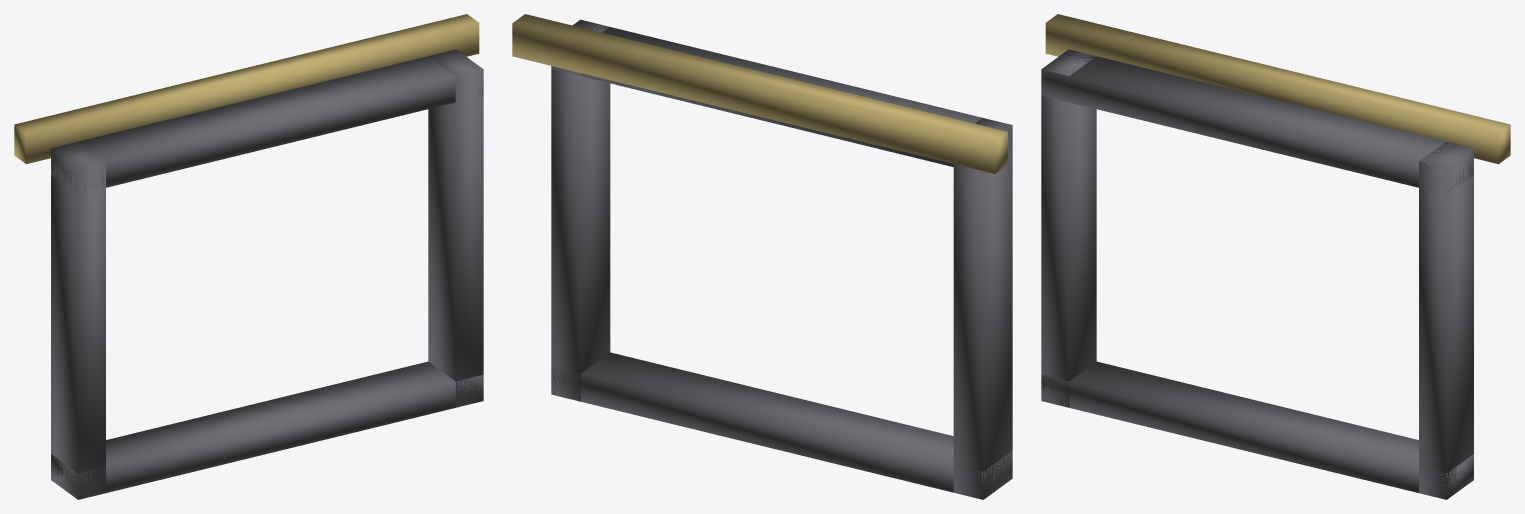
Rendered from egress_window_motel_w118_h90_s55_d16.glb.
The picture shows the model from 3 angles, left to right: view 1: azimuth 30°, elevation 25°; view 2: azimuth 150°, elevation 25°; view 3: azimuth 330°, elevation 25°; orthographic projection. The views are drawn at different scales.
Parts seen in each view (by area): view 1: world; view 2: world; view 3: world.
Part boxes in pixels (x1,y1,x2,y2): world: [14, 14, 483, 499]; world: [512, 14, 1012, 499]; world: [1041, 14, 1510, 499].
Size of the model in its own units: 1.53 by 1.13 by 0.235.
